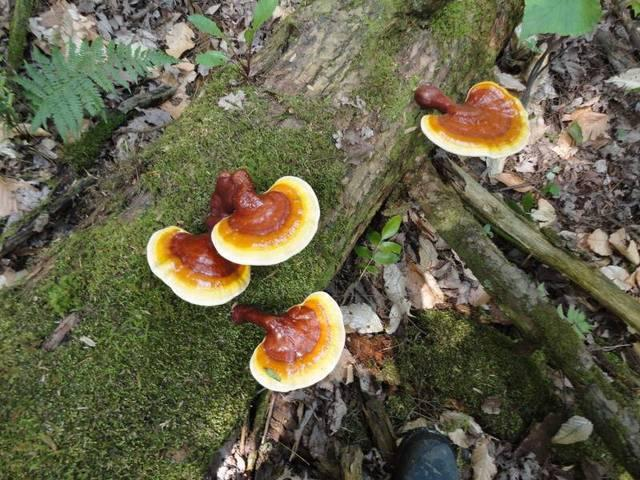poisonous_mushroom: (230, 289, 346, 393), (413, 79, 531, 177), (208, 170, 320, 266), (145, 224, 251, 307)
